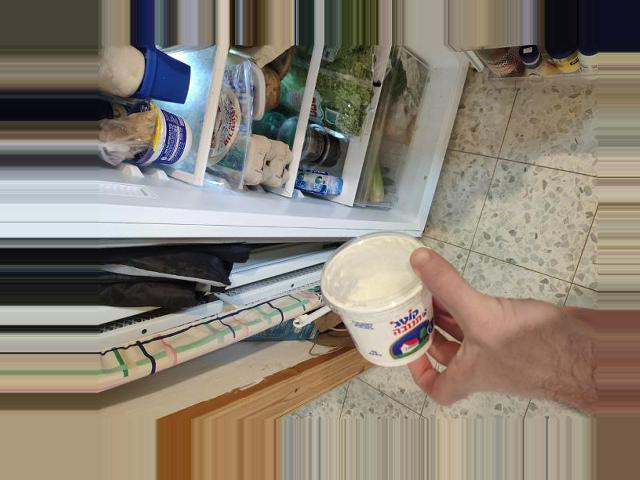cotage: (313, 249, 432, 352)
